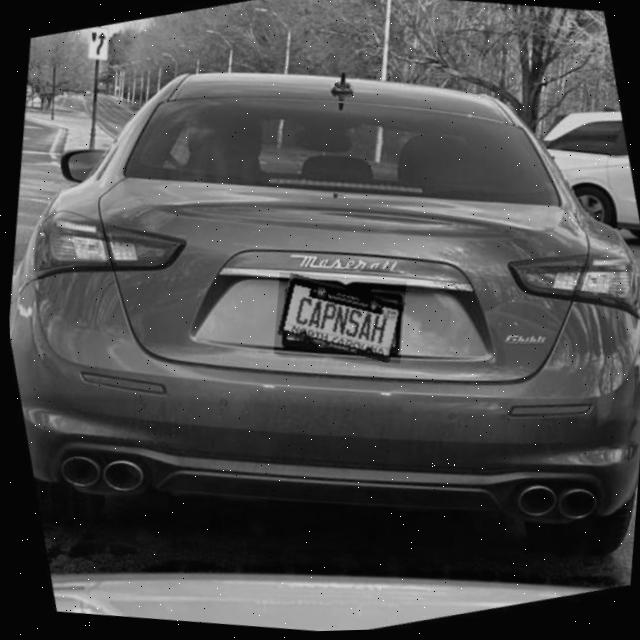LicensePlate: (273, 275, 402, 365)
